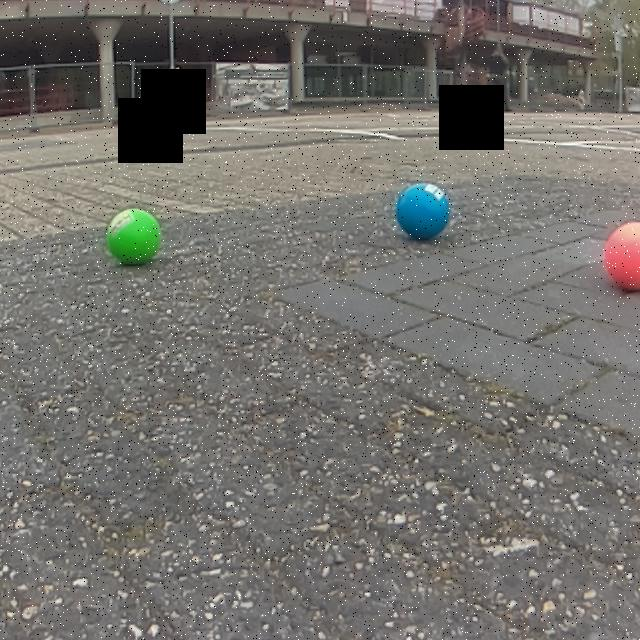ball: (102, 205, 164, 268), (392, 178, 453, 242), (601, 219, 640, 295)
